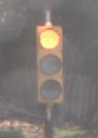Red: (32, 19, 72, 117)
